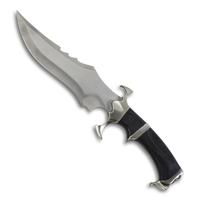knife: (12, 8, 184, 190)
